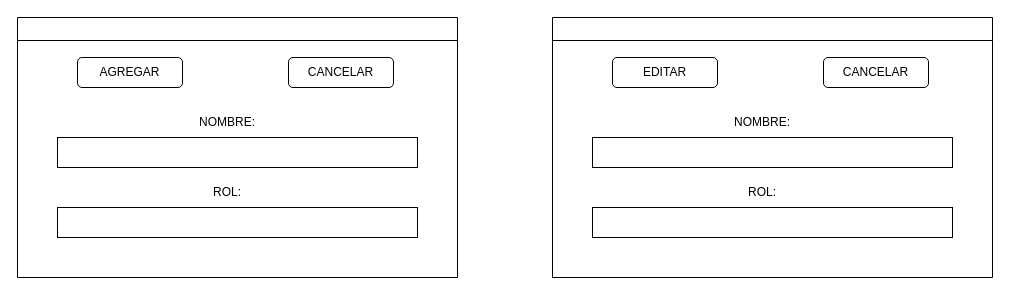
This 1010x295 diagram has some shape labels left out. Here are the shapes that lost their labels. From the top down, the box of each, then its label:
(16, 16, 458, 278): AGREGAR USUARIO
(552, 16, 992, 278): EDITAR USUARIO
